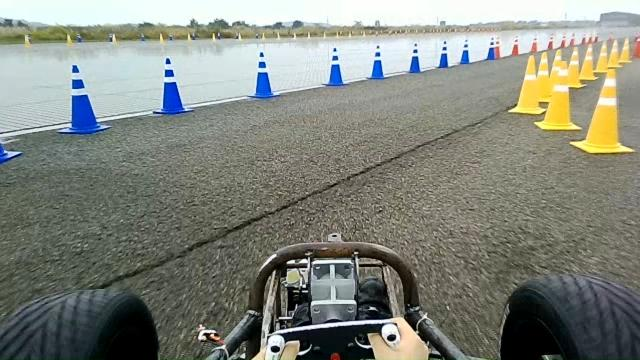blue cone: (56, 64, 112, 134), (152, 56, 194, 115), (247, 51, 280, 98), (322, 47, 349, 86), (366, 45, 389, 79), (406, 43, 424, 74), (436, 40, 449, 68), (459, 38, 471, 64)
yellow cone: (569, 69, 635, 154), (534, 58, 584, 132), (508, 52, 546, 115)
